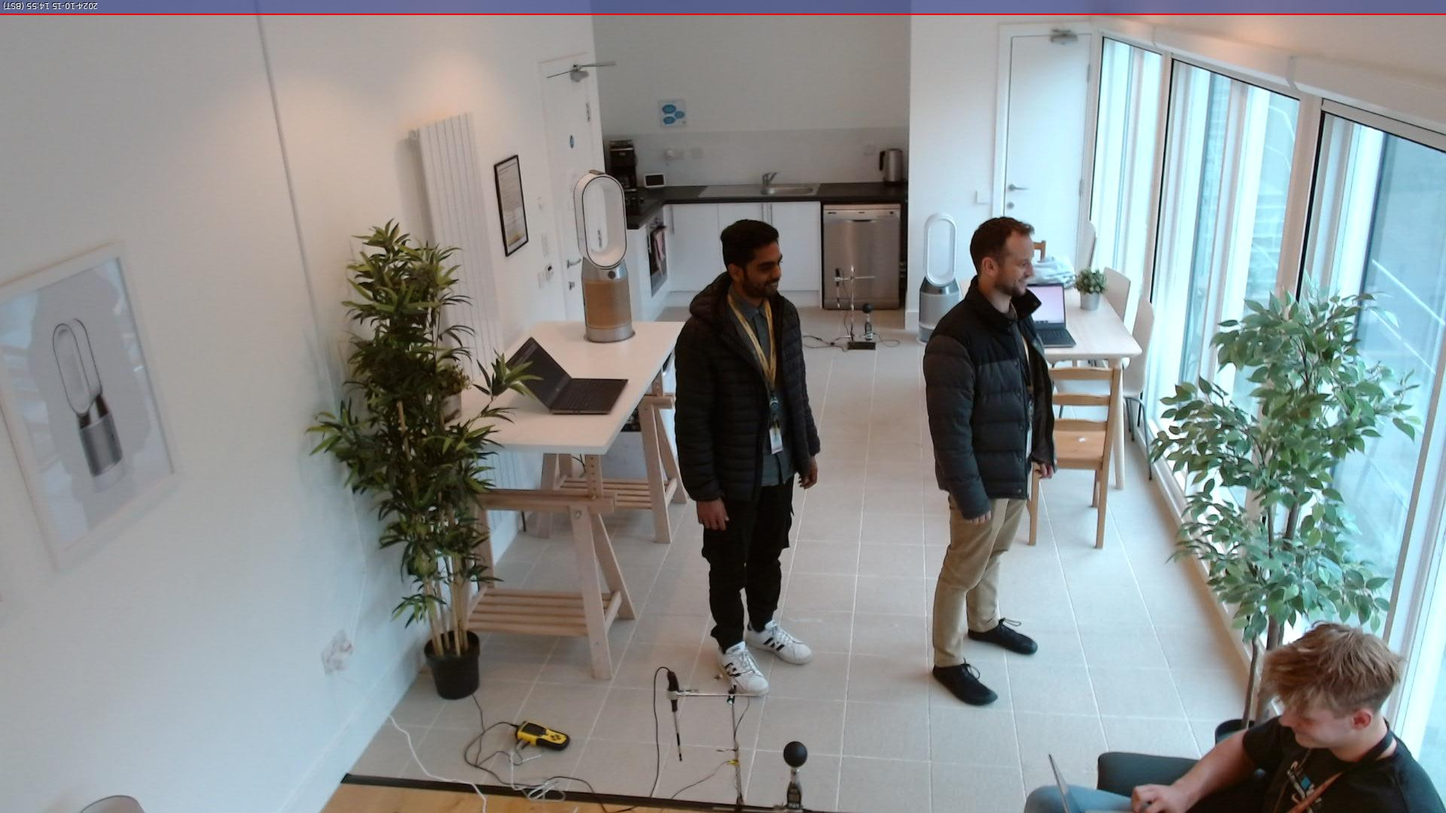coat: (674, 272, 823, 500), (923, 274, 1057, 517)
long sleeve shirt: (728, 285, 796, 489)
short sleeve shirt: (1241, 708, 1446, 813)
trousers: (929, 492, 1028, 666), (697, 478, 794, 648), (1021, 783, 1160, 813)
